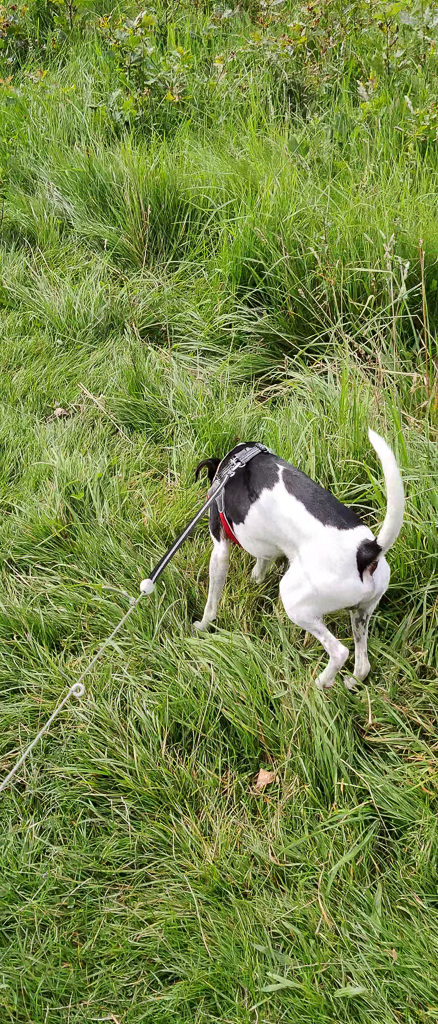Dog: (184, 390, 414, 701)
